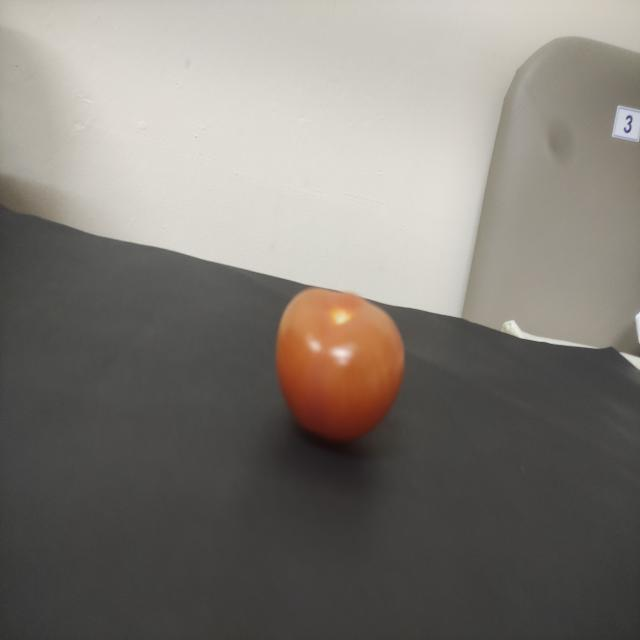sari: (270, 266, 405, 452)
